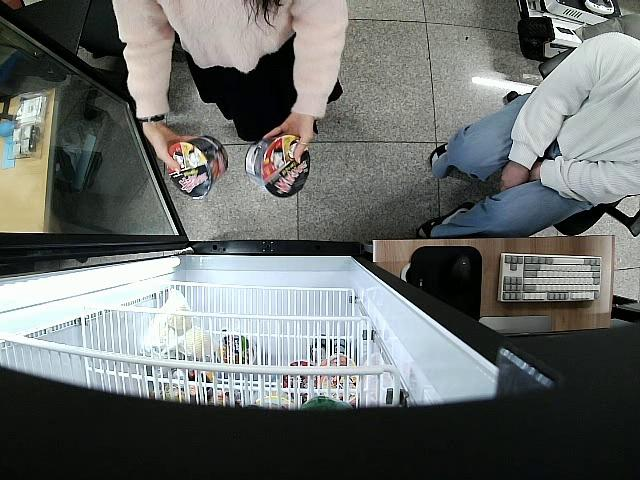00_hand: (142, 122, 194, 173), (261, 117, 312, 167)
07_buldak_L: (161, 133, 229, 201), (245, 135, 311, 199)
